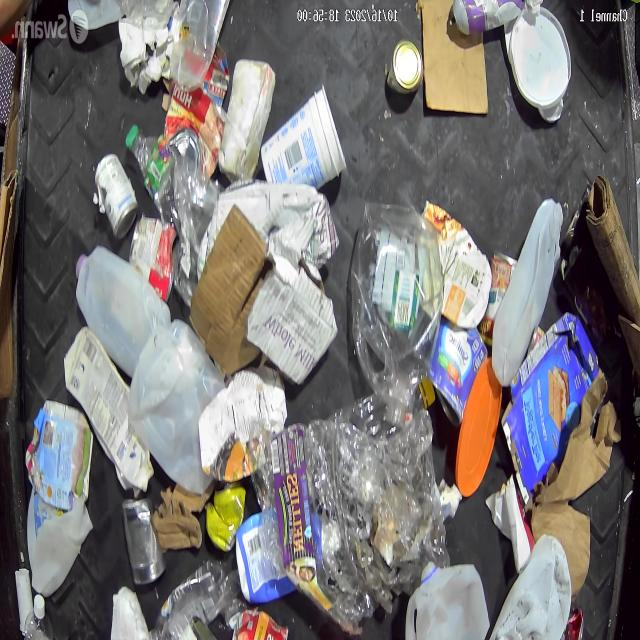can: (430, 319, 489, 427), (130, 214, 180, 302), (121, 498, 166, 586), (478, 250, 518, 348), (94, 152, 138, 240), (206, 482, 246, 552), (448, 0, 524, 35), (386, 40, 424, 94), (232, 610, 290, 640), (168, 128, 202, 172), (564, 607, 584, 640), (527, 324, 545, 352)
milk_jug: (127, 318, 226, 496), (64, 324, 154, 496), (490, 199, 564, 385), (74, 244, 172, 378), (489, 535, 571, 640), (26, 488, 94, 596), (404, 560, 490, 640)
non_white_jug: (350, 202, 442, 426), (503, 311, 599, 499), (200, 368, 288, 486), (418, 200, 492, 330)
plastic_bottle: (148, 560, 226, 640), (125, 124, 173, 215), (24, 593, 54, 640)
